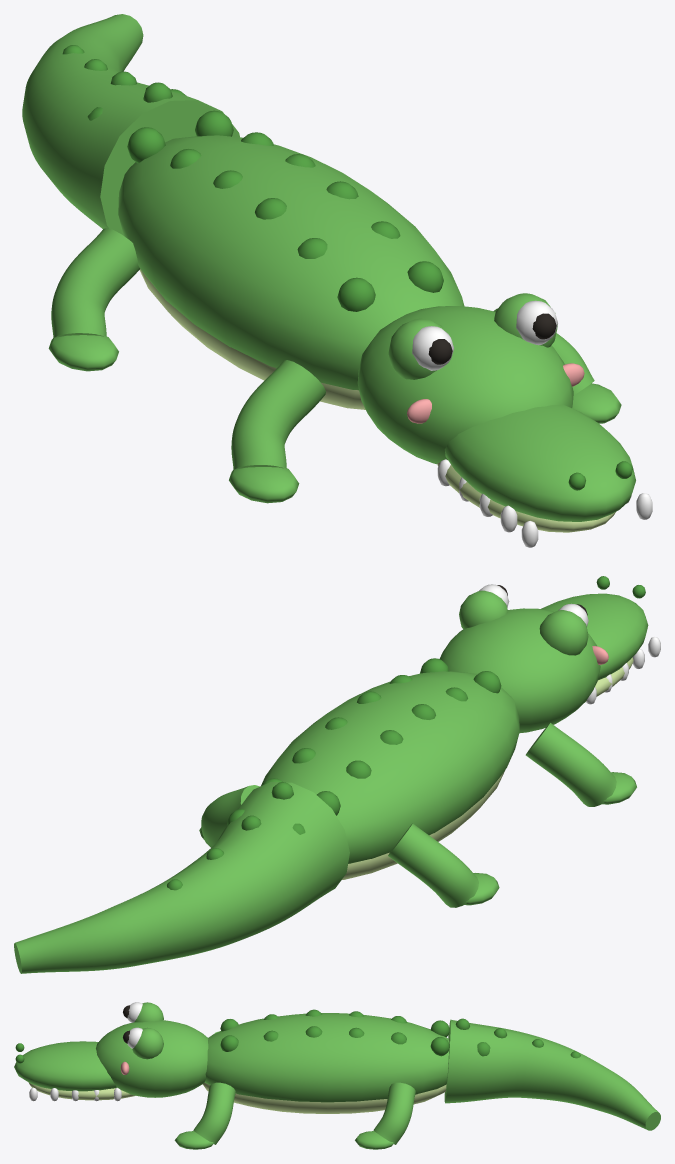
File: crocodile.glb
The picture shows the model from 3 angles, top to bottom: view 1: azimuth 30°, elevation 25°; view 2: azimuth 150°, elevation 25°; view 3: azimuth 270°, elevation 25°; orthographic projection. The views are drawn at different scales.
Parts seen in each view (by area): view 1: body, tailmesh, skull, snout, leg0, leg2, belly, foot2, foot0, lowerjaw, eyebump-1, foot1 (+8 smaller); view 2: tailmesh, body, skull, snout, leg0, leg2, eyebump-1, leg3, belly, eyebump1, foot2, foot0; view 3: body, tailmesh, skull, snout, belly, leg1, leg3, eyebump1, lowerjaw, foot1, foot3, eyebump-1 (+3 smaller).
Part boxes in pixels (<box>): body: <box>118,135,464,390</box>; tailmesh: <box>22,14,239,235</box>; skull: <box>357,306,573,464</box>; snout: <box>444,405,635,521</box>; leg0: <box>231,360,325,470</box>; leg2: <box>51,228,139,338</box>; belly: <box>139,269,365,409</box>; foot2: <box>48,335,118,371</box>; foot0: <box>229,467,299,503</box>; lowerjaw: <box>437,462,615,532</box>; eyebump-1: <box>388,318,451,379</box>; foot1: <box>572,383,621,423</box>; tailmesh: <box>14,782,349,973</box>; body: <box>261,671,519,863</box>; skull: <box>439,608,600,733</box>; snout: <box>541,593,648,680</box>; leg0: <box>525,722,616,806</box>; leg2: <box>388,823,478,907</box>; eyebump-1: <box>539,610,588,655</box>; leg3: <box>201,785,259,847</box>; belly: <box>342,771,504,879</box>; eyebump1: <box>459,590,507,629</box>; foot2: <box>464,873,499,905</box>; foot0: <box>602,772,636,804</box>; body: <box>204,1013,449,1102</box>; tailmesh: <box>444,1019,660,1130</box>; skull: <box>96,1020,208,1097</box>; snout: <box>14,1041,116,1091</box>; belly: <box>202,1082,446,1113</box>; leg1: <box>193,1082,235,1144</box>; leg3: <box>373,1082,415,1144</box>; eyebump1: <box>132,1027,163,1059</box>; lowerjaw: <box>28,1082,135,1100</box>; foot1: <box>174,1131,214,1149</box>; foot3: <box>355,1131,394,1149</box>; eyebump-1: <box>134,1002,163,1022</box>.
Bounding box in the file's own units: 1.46 × 0.675 × 4.31.
